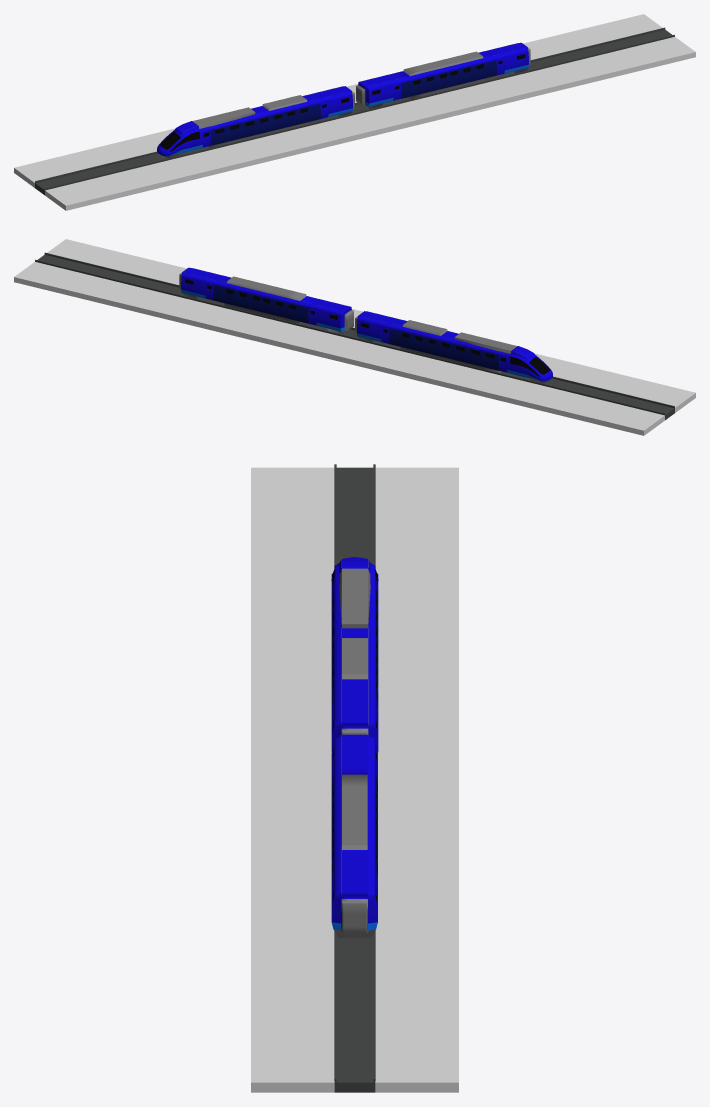
The model's file is Train.fbx.
3 views of the same model, one above another, from view 1: azimuth 30°, elevation 25°; view 2: azimuth 150°, elevation 25°; view 3: azimuth 270°, elevation 25° (orthographic). The views are drawn at different scales.
Parts seen in each view (by area): view 1: Cube.001, Train, Carriage; view 2: Cube.001, Train, Carriage; view 3: Cube.001, Carriage, Train.
Part boxes in pixels (box(x1,y1,x2,y2)): Cube.001: box(14, 14, 695, 210); Train: box(157, 86, 354, 158); Carriage: box(356, 42, 530, 109); Cube.001: box(14, 239, 695, 435); Train: box(355, 311, 552, 383); Carriage: box(179, 267, 353, 334); Cube.001: box(251, 464, 458, 1092); Carriage: box(331, 734, 377, 937); Train: box(331, 557, 378, 752).
Bounding box in the file's own units: 14000 × 654 × 2000.
